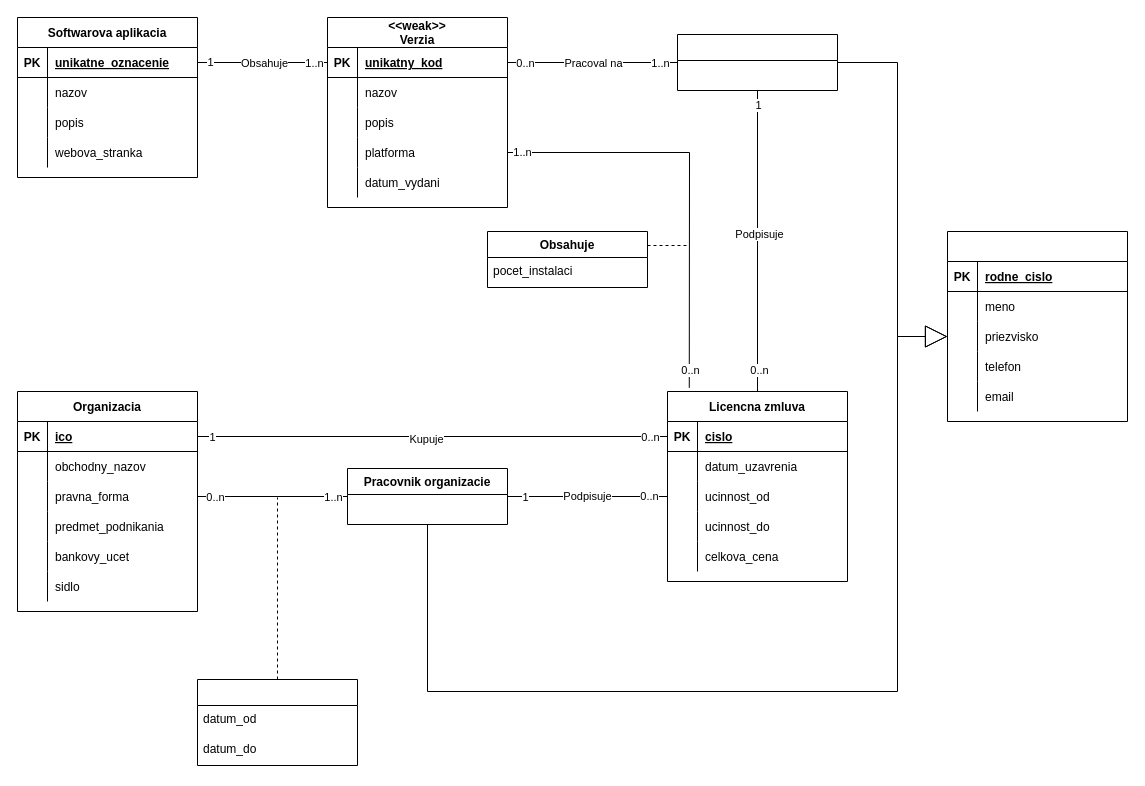
The diagram is 1145 pixels wide and 786 high, and some of its shapes have lost their labels. Here are the shapes that lost their labels. From the top down, the box of each, then its label:
(676, 34, 838, 90): Vyvojar
(946, 230, 1128, 422): Fyzicka osoba
(196, 678, 358, 766): Zastupuje
